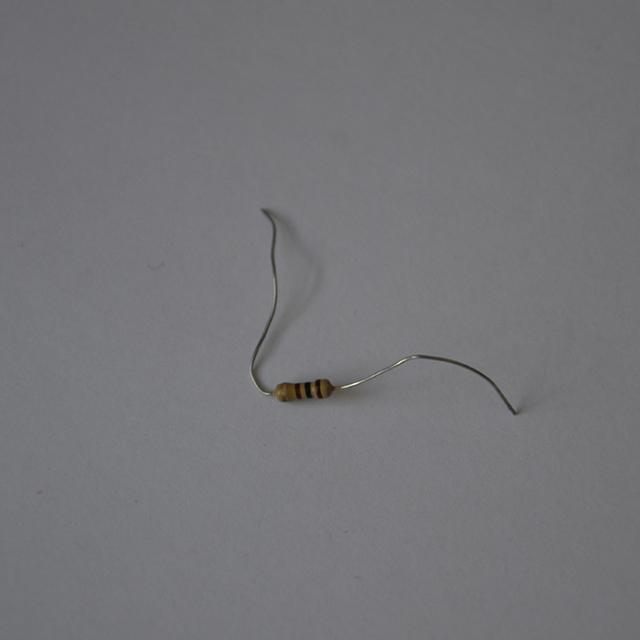black: (304, 382, 312, 398)
brown: (315, 381, 322, 397), (294, 382, 300, 398)
gold: (282, 384, 287, 400)
resistor: (270, 369, 341, 411)
